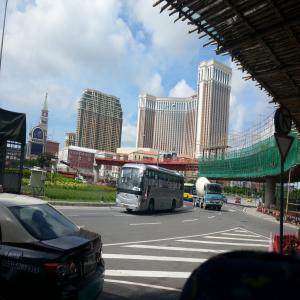Vehicle-registration-plate: (124, 206, 129, 208)
